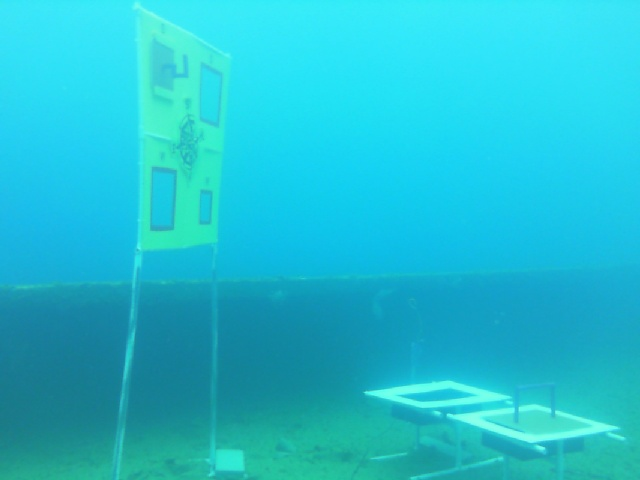bin_cover: (349, 360, 631, 477)
torpedo_cover: (149, 37, 190, 97)
torpedo_hole: (149, 167, 180, 236), (198, 62, 221, 127), (198, 190, 214, 229)
torpedo_target: (119, 2, 230, 254)
